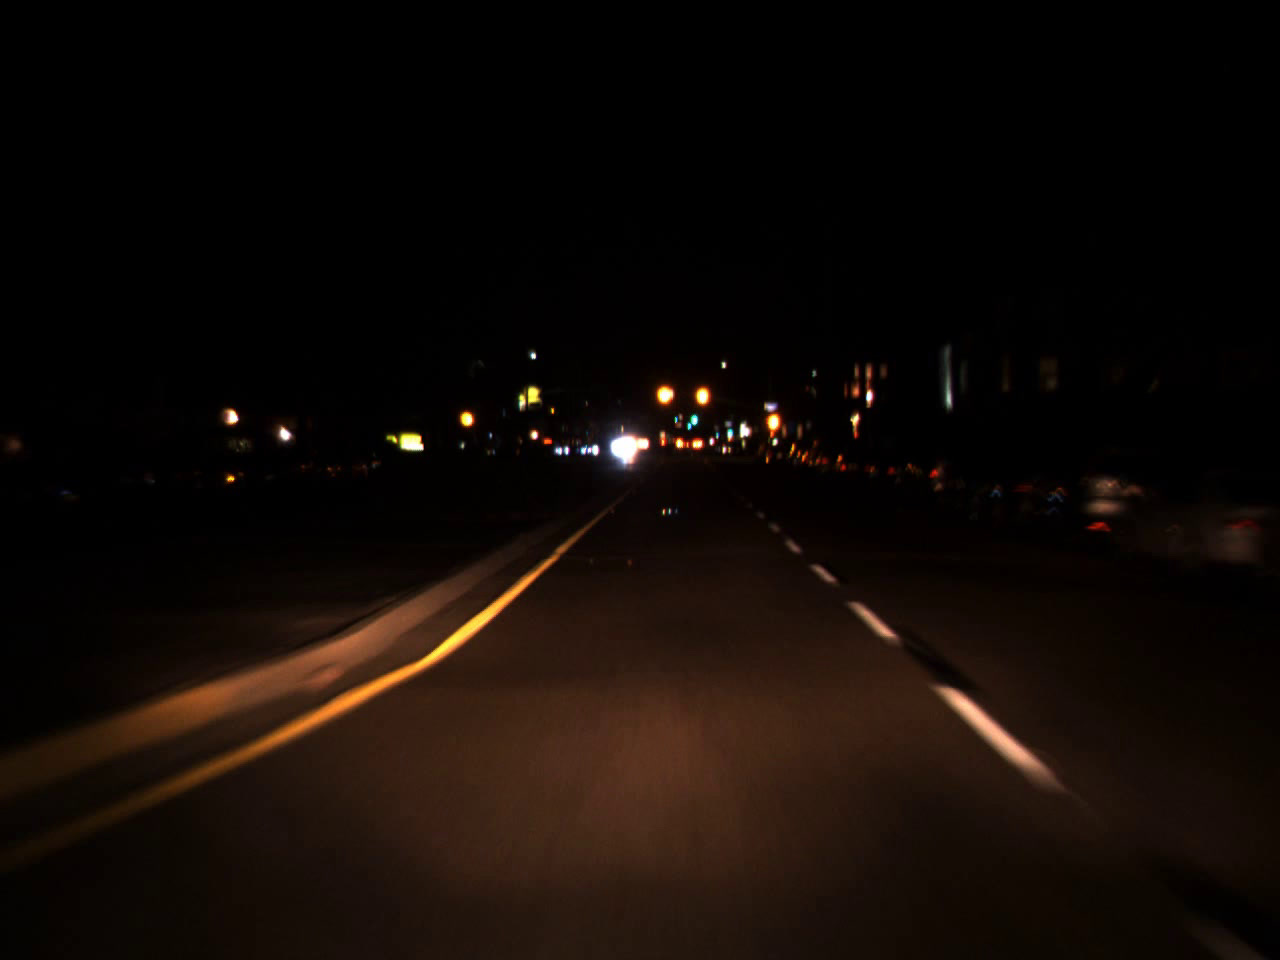go: (689, 402, 698, 429), (711, 427, 720, 439), (685, 416, 692, 431), (726, 423, 733, 435)
warning: (653, 371, 677, 416), (692, 371, 713, 418), (456, 400, 477, 435), (761, 405, 783, 437)
